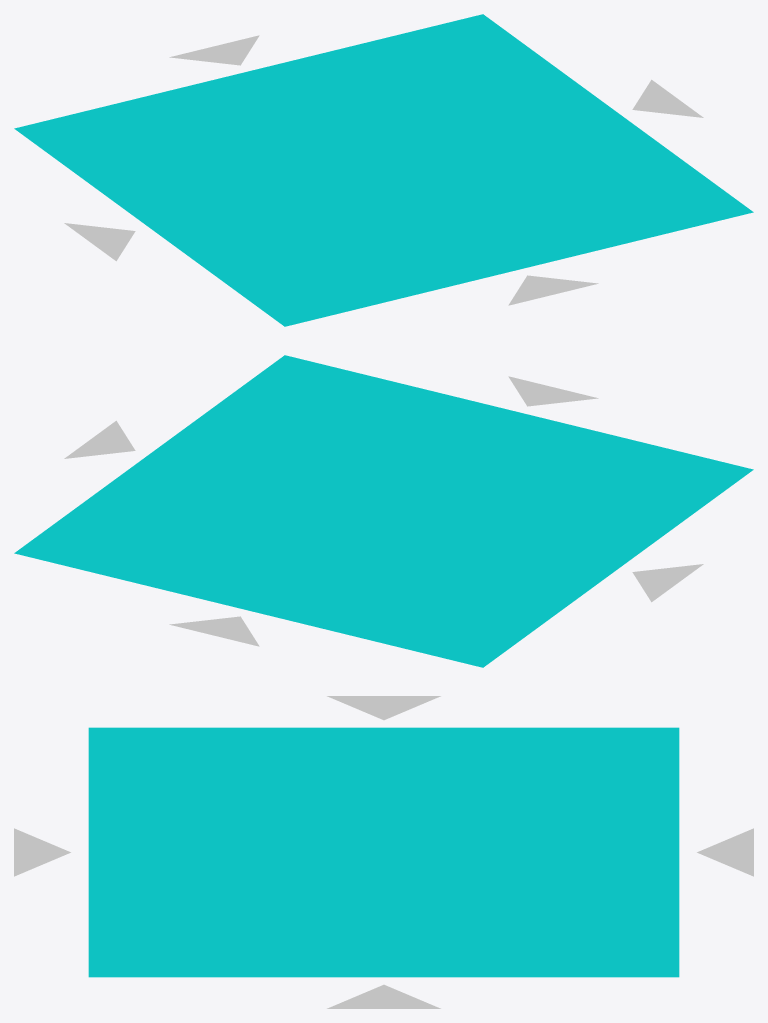
The model's file is IconPlane.fbx.
The picture shows the model from 3 angles, top to bottom: view 1: azimuth 30°, elevation 25°; view 2: azimuth 150°, elevation 25°; view 3: azimuth 270°, elevation 25°; orthographic projection. The views are drawn at different scales.
Visible parts, largest first — view 1: Icon; view 2: Icon; view 3: Icon.
Part boxes in pixels (bbox=[...]): Icon: bbox=[14, 14, 753, 326]; Icon: bbox=[14, 355, 753, 667]; Icon: bbox=[14, 696, 753, 1008].
Size of the model in its own units: 1.25 by 3.14e-07 by 1.25.
